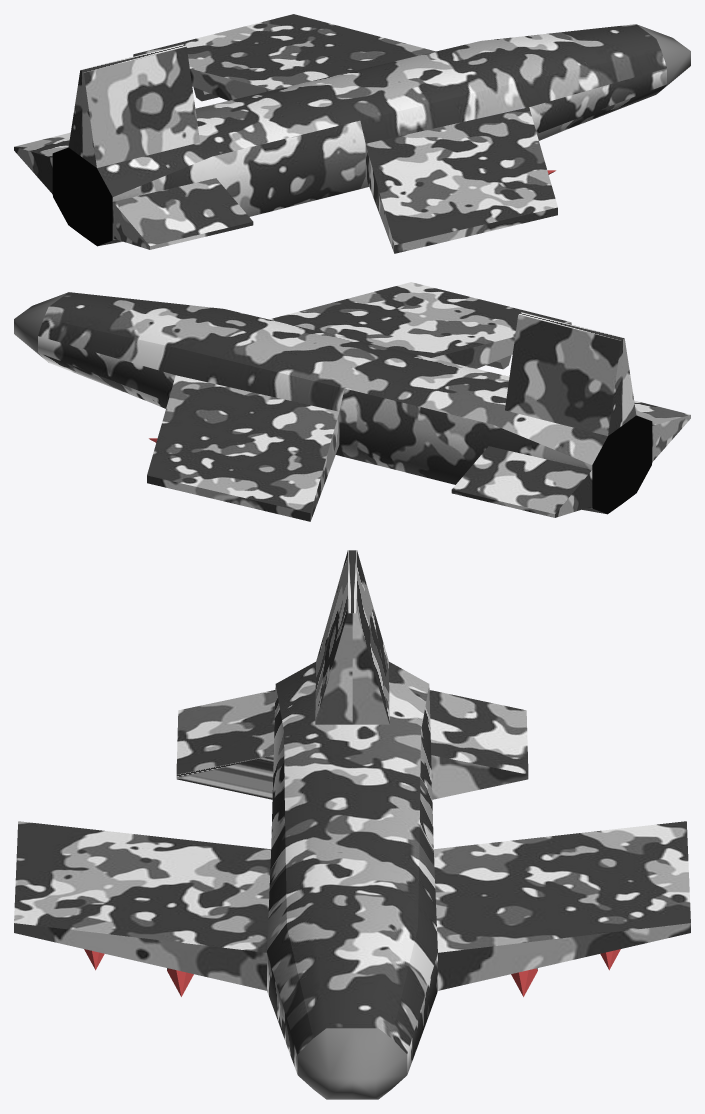
File: HumanFighterV2.fbx
3 renders of one model, top to bottom at view 1: azimuth 30°, elevation 25°; view 2: azimuth 150°, elevation 25°; view 3: azimuth 270°, elevation 25°, orthographic. The views are drawn at different scales.
Parts seen in each view (by area): view 1: PlaneBody, PlaneEngine, PlaneBeak; view 2: PlaneBody, PlaneEngine, PlaneBeak; view 3: PlaneBody, PlaneBeak.
Boxes of the visible parts, x1,y1,x2,y2 form: PlaneBody: (14,14,666,253); PlaneEngine: (52,147,112,246); PlaneBeak: (637,24,690,89); PlaneBody: (38,282,690,521); PlaneEngine: (592,415,652,514); PlaneBeak: (14,292,67,357); PlaneBody: (14,550,690,1074); PlaneBeak: (297,1028,407,1099).
Bounding box in the file's own units: 16.75 × 4.54 × 12.78.
4 materials, 1 textured.
